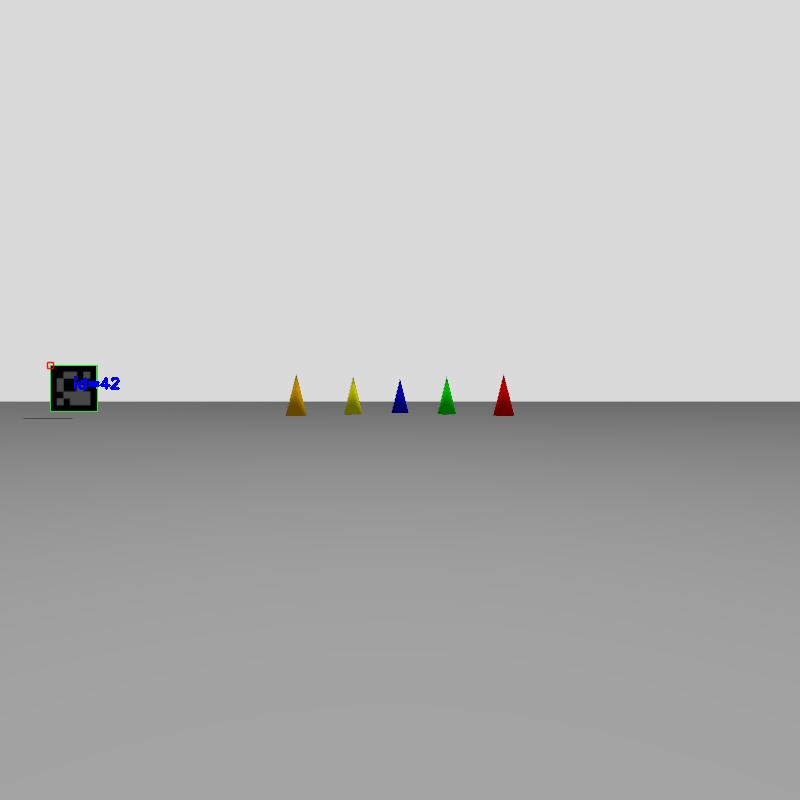Blue_cone: (393, 381, 408, 413)
Green_cone: (439, 378, 456, 414)
Orange_cone: (286, 376, 305, 415)
Red_cone: (494, 376, 514, 415)
Yellow_cone: (344, 378, 360, 414)
